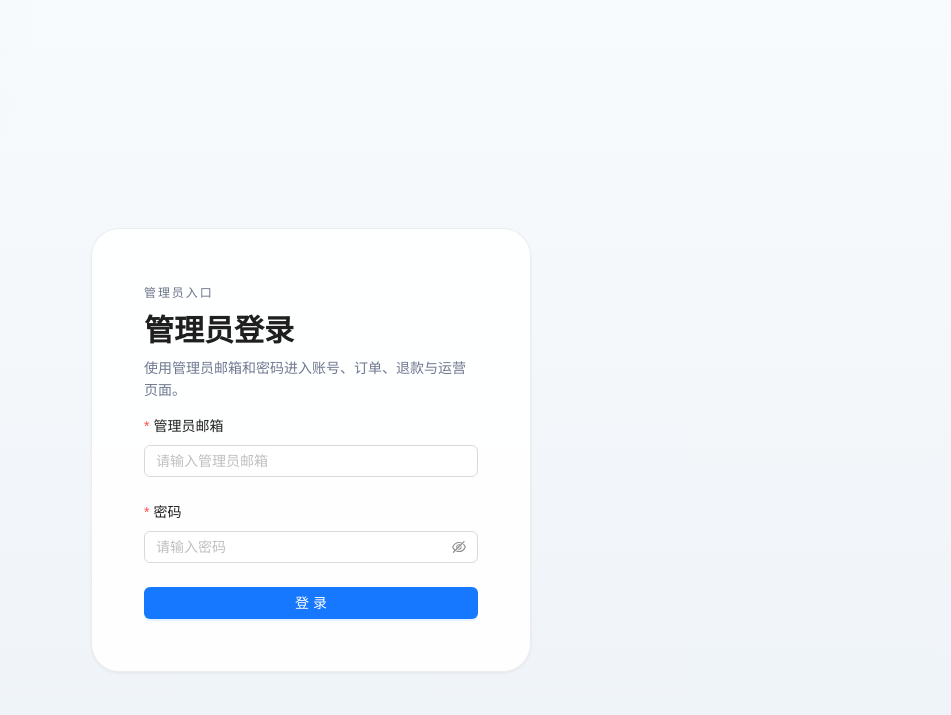
Test: AdminLoginPage › shows the submit error when login fails
In the field labelled "管理员邮箱": [311, 461] box [144,445,478,477], type "ops@example.com"
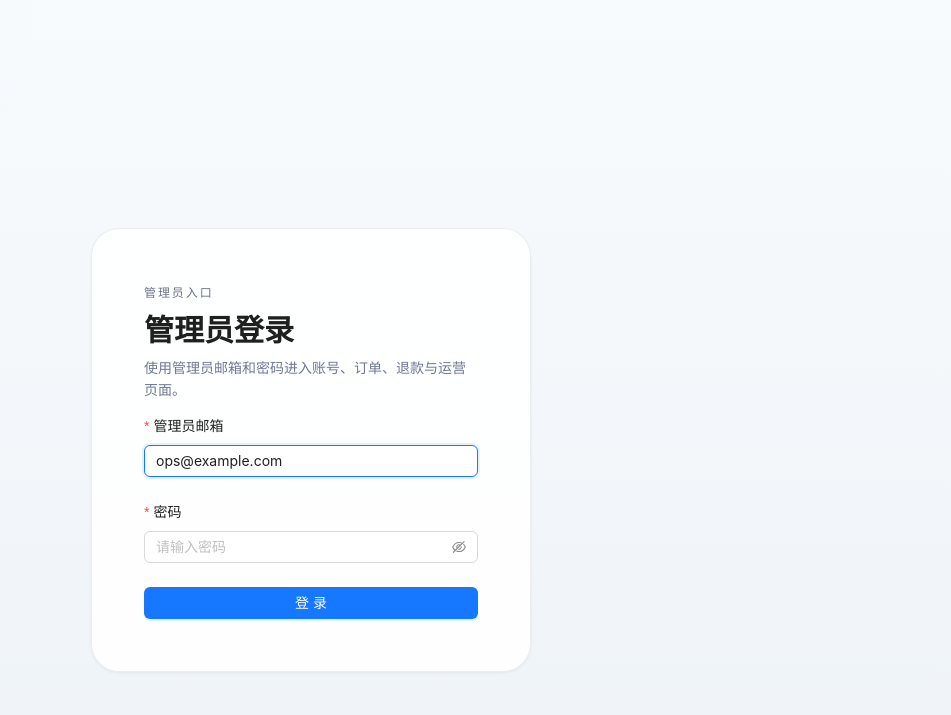
In the password field labelled "密码": [302, 547] box [156,536,448,558], type "wrong-password"
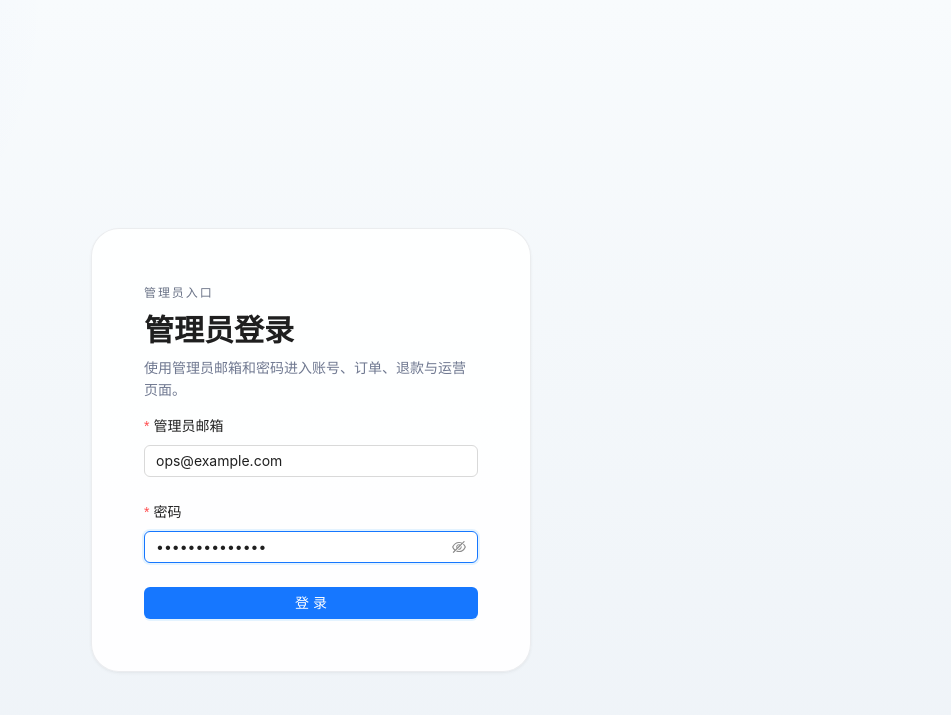
Click the button "登 录": [311, 603] box [144,587,478,619]
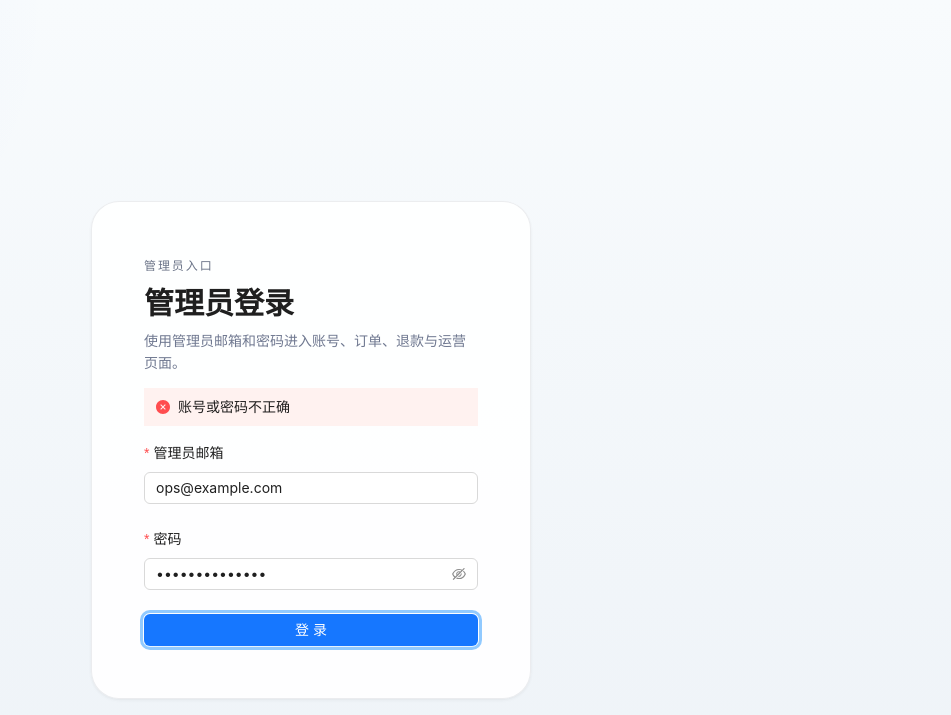
Check: the text "账号或密码不正确" is shown, box [178,398,290,415]
